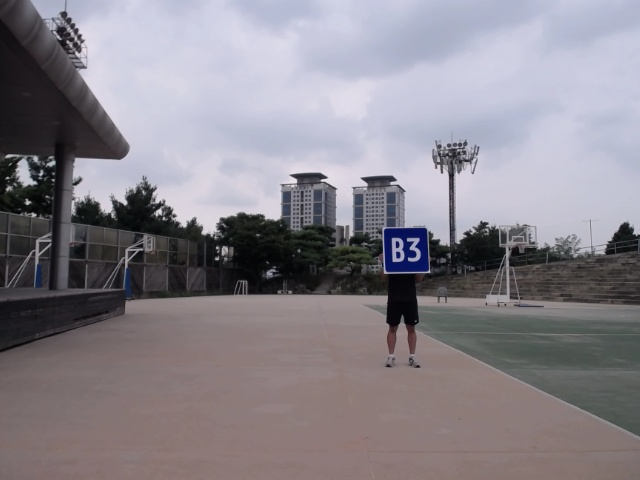delivery_b3: (381, 225, 432, 275)
